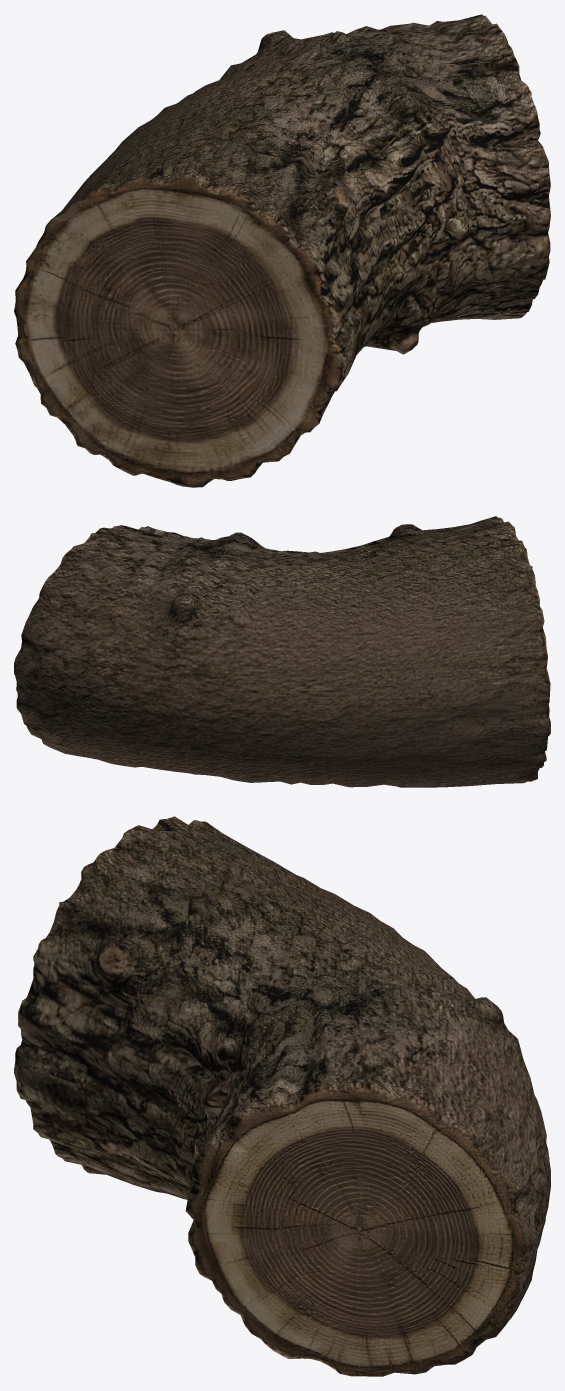
The model's file is selected.glb.
3 renders of one model, top to bottom at view 1: azimuth 30°, elevation 25°; view 2: azimuth 150°, elevation 25°; view 3: azimuth 270°, elevation 25°, orthographic. The views are drawn at different scales.
Parts seen in each view (by area): view 1: tripo_node_52ee04de-ea6f-4c6e-85d7-d6ad0f888188; view 2: tripo_node_52ee04de-ea6f-4c6e-85d7-d6ad0f888188; view 3: tripo_node_52ee04de-ea6f-4c6e-85d7-d6ad0f888188.
Boxes of the visible parts, x1,y1,x2,y2 form: tripo_node_52ee04de-ea6f-4c6e-85d7-d6ad0f888188: [14, 14, 550, 487]; tripo_node_52ee04de-ea6f-4c6e-85d7-d6ad0f888188: [14, 516, 550, 787]; tripo_node_52ee04de-ea6f-4c6e-85d7-d6ad0f888188: [14, 816, 550, 1376].
Bounding box in the file's own units: 0.998 × 0.5332 × 0.7637.
Materials: 1 (1 with a texture image).
